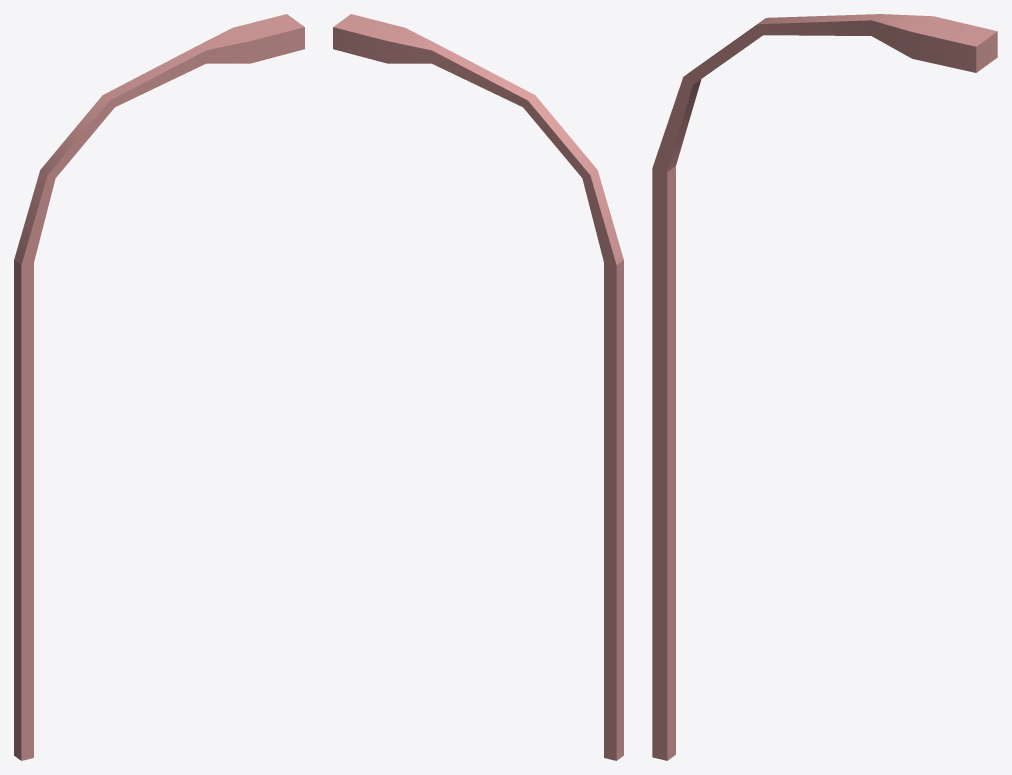
File: LightPole_A_A_COL.fbx
3 views of the same model, side by side, from view 1: azimuth 30°, elevation 25°; view 2: azimuth 150°, elevation 25°; view 3: azimuth 330°, elevation 25° (orthographic). The views are drawn at different scales.
Visible parts, largest first — view 1: LightPole_A_A_COL; view 2: LightPole_A_A_COL; view 3: LightPole_A_A_COL.
Boxes of the visible parts, bbox=[...] form: LightPole_A_A_COL: bbox=[14, 14, 304, 760]; LightPole_A_A_COL: bbox=[333, 14, 623, 760]; LightPole_A_A_COL: bbox=[652, 14, 997, 760].
Bounding box in the file's own units: 303 × 698 × 34.15.
